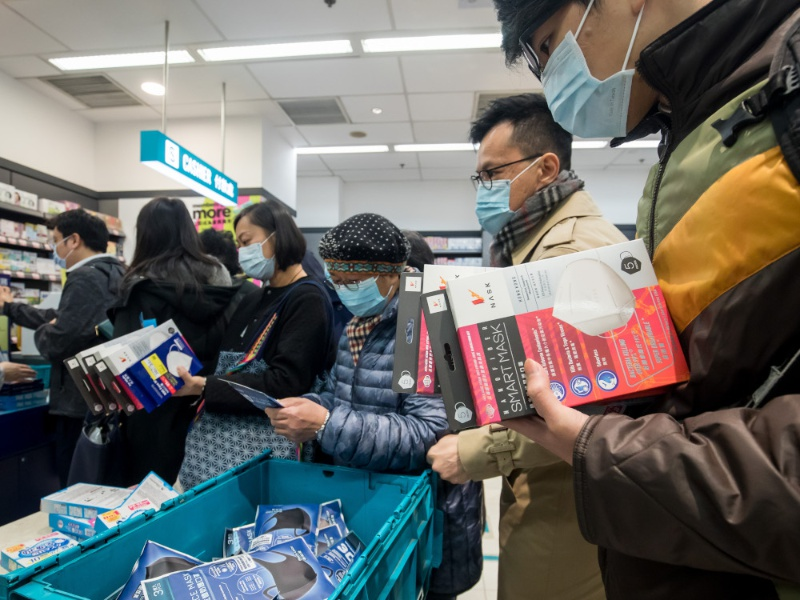ManaoArotava: (486, 1, 685, 146), (457, 101, 549, 252), (310, 224, 416, 333), (233, 204, 295, 292)
